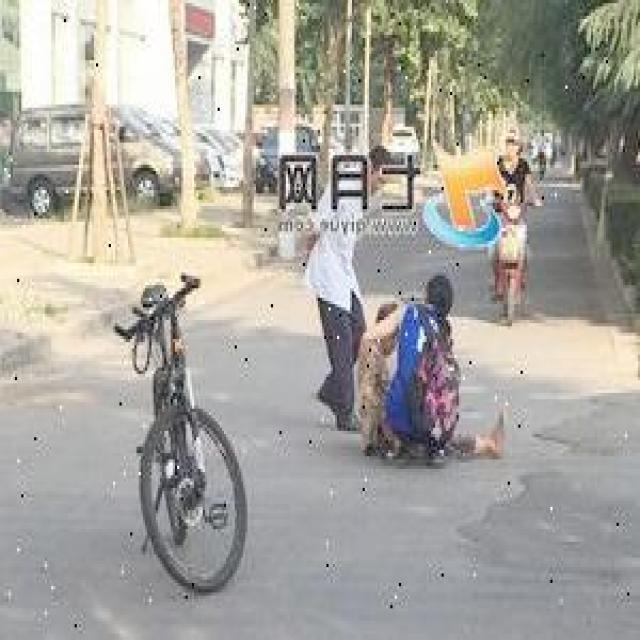fall: (360, 311, 506, 454)
